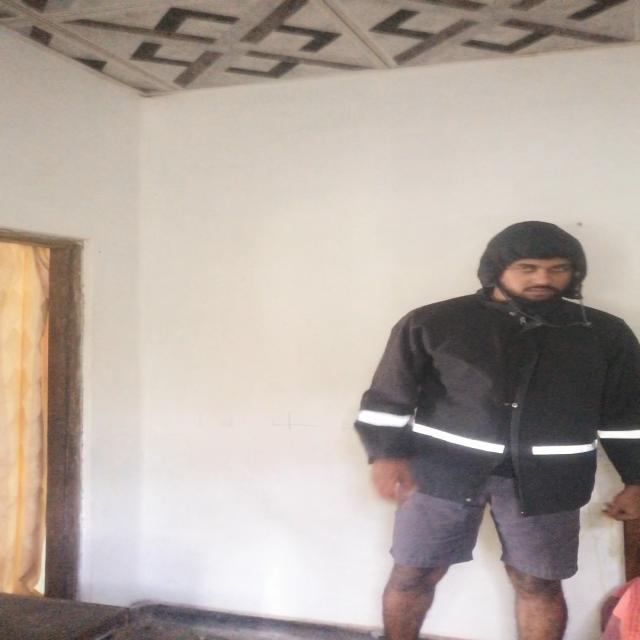Jacket_Wearer: (355, 213, 640, 503)
